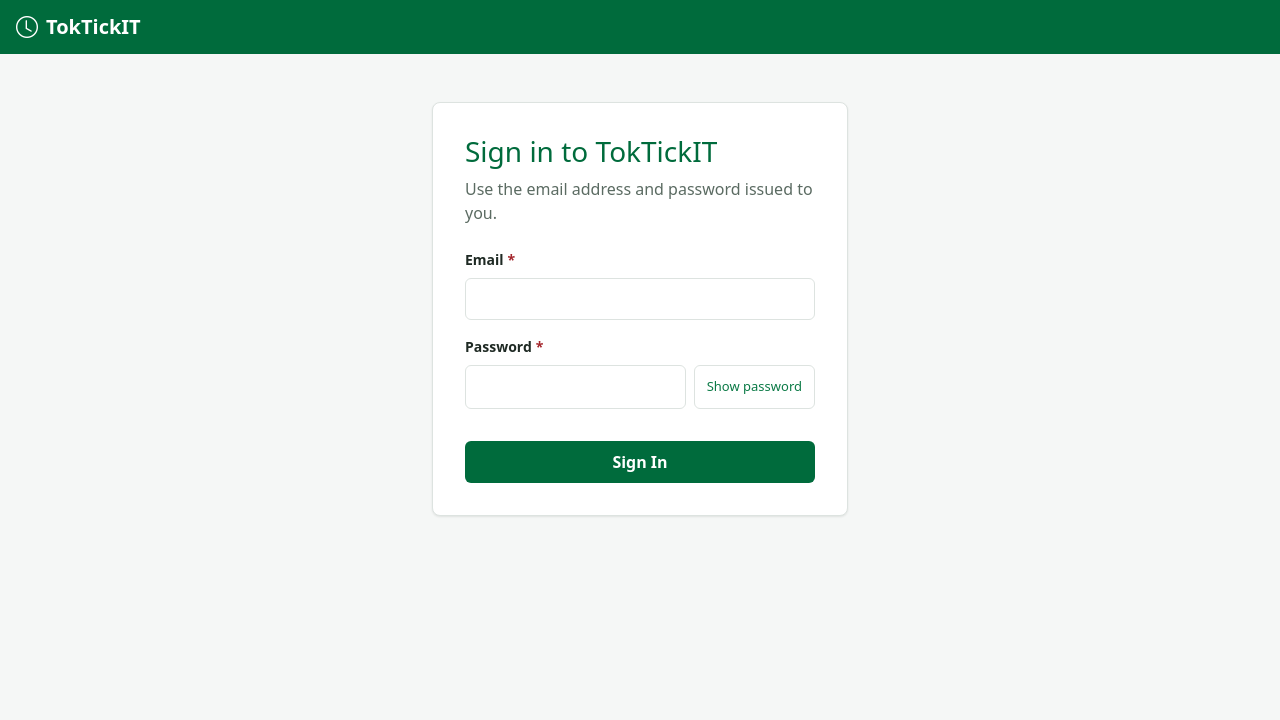
Test: UI-04 a deactivated account › shows a distinct message naming the account as deactivated
The image size is (1280, 720).
Type "natthaphong.chaiyaporn@example.ac.th" into the field labelled "Email*" at (640, 299), box left=465, top=278, right=815, bottom=320
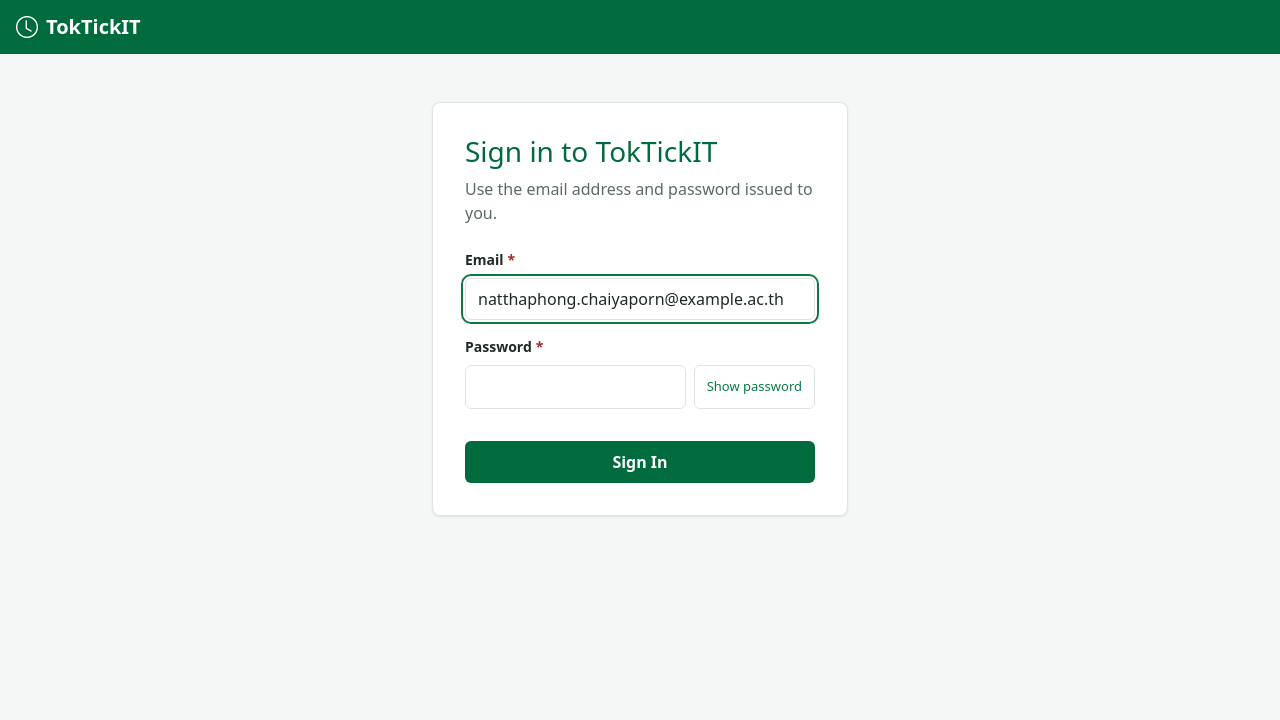
Type "Requester5!" into the password field labelled "Password*" at (575, 387), box left=465, top=365, right=686, bottom=409
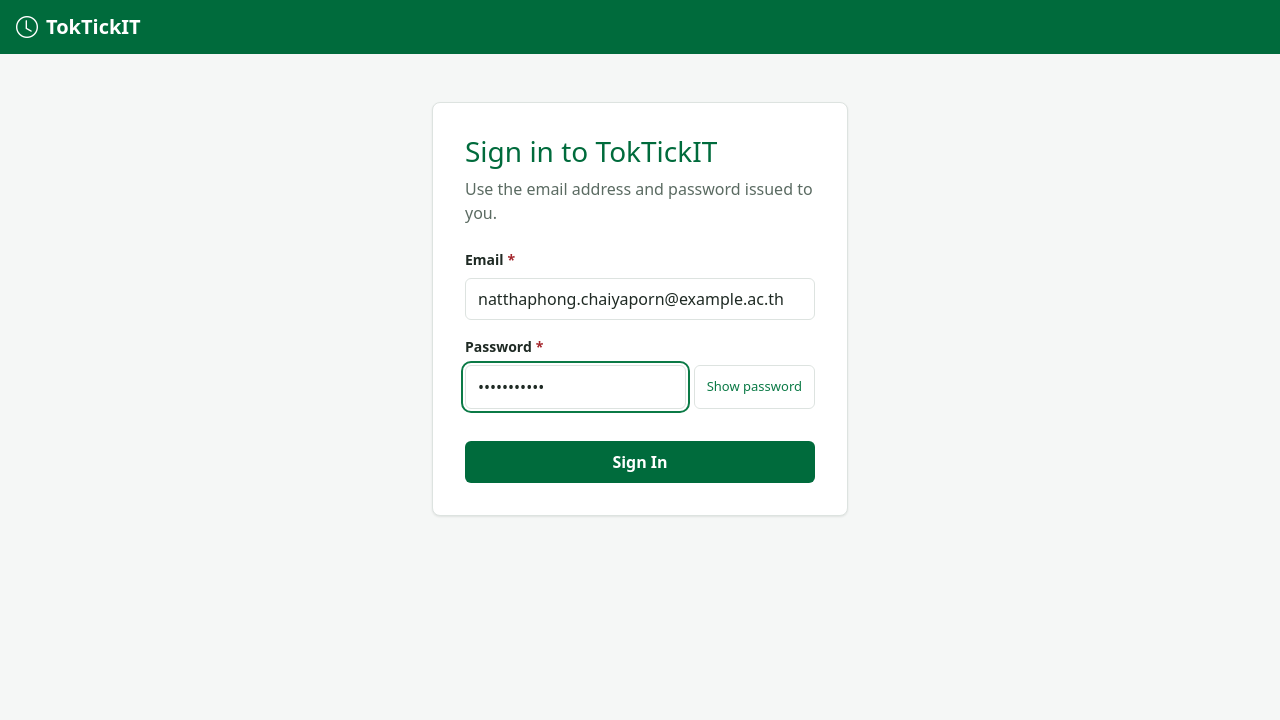
Click the button "Sign In" at (640, 462), box left=465, top=441, right=815, bottom=483
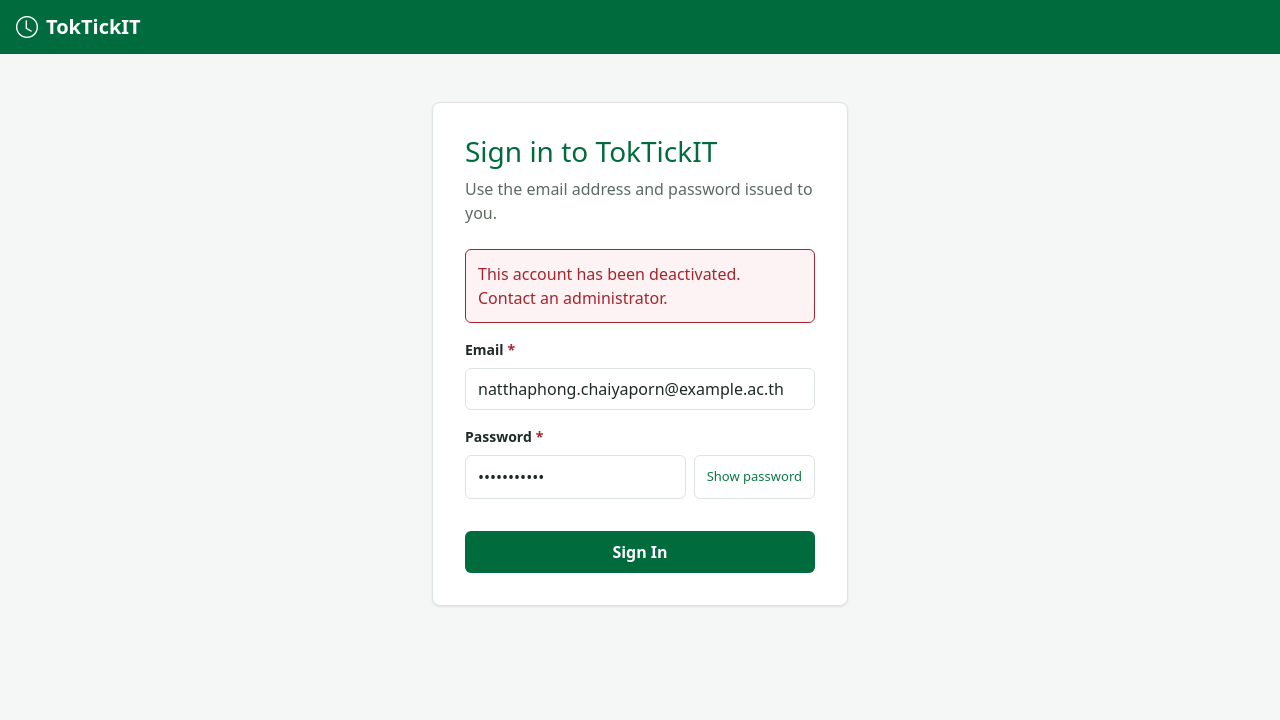
Expected: the text "This account has been deactivated. Contact an administrator." is shown, left=465, top=249, right=815, bottom=323
